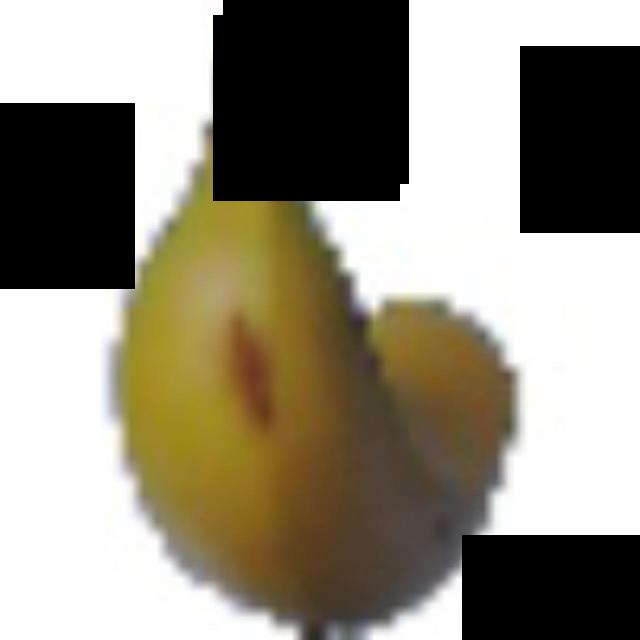banana: (90, 0, 538, 634)
